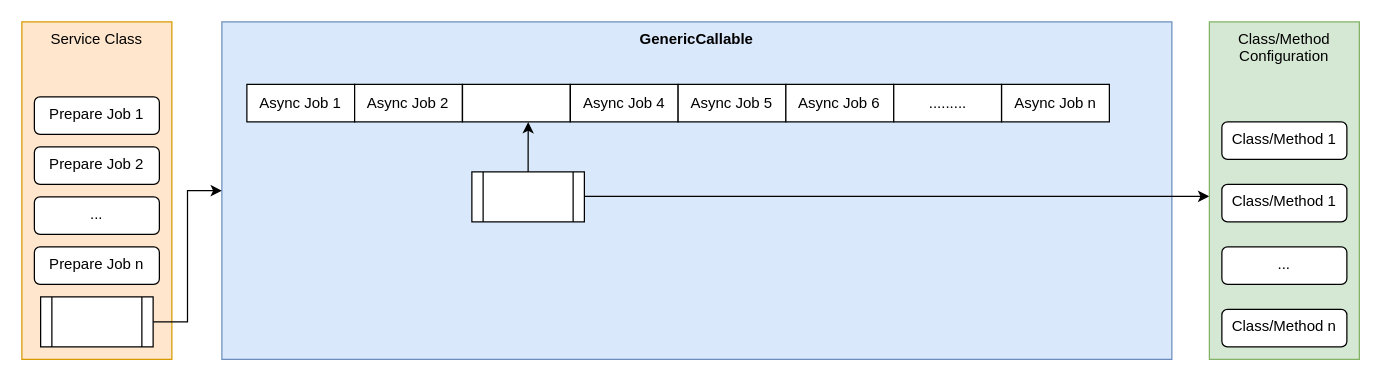
This 1381x381 diagram has some shape labels left out. Here are the shapes that lost their labels. From the top down, the centre of each, then its label:
the point at 515,102: Async Job 3
the point at 527,196: exceute
the point at 96,321: Run
